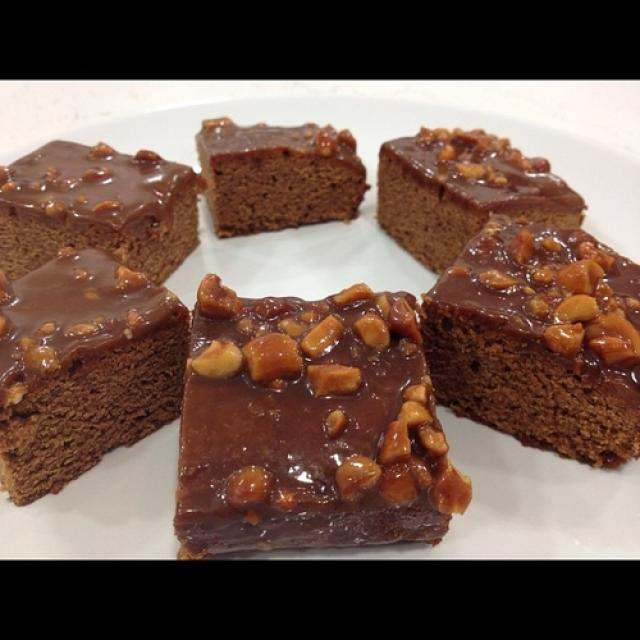蛋糕甜品: (9, 96, 621, 554)
